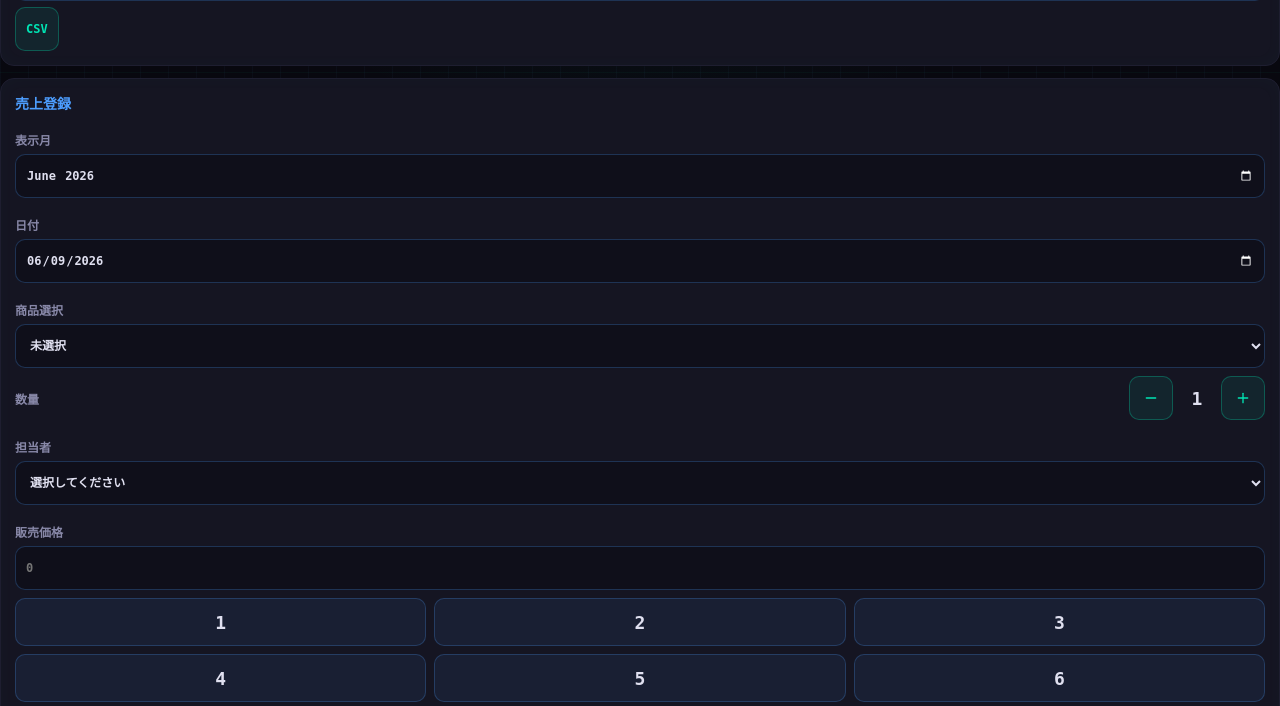
SalesPage › 商品選択が動く
This screenshot has width=1280, height=706.
(page scrolled)
Select "A / 商品A" in the dropdown labelled "商品選択": (640, 346) [15,324,1265,368]
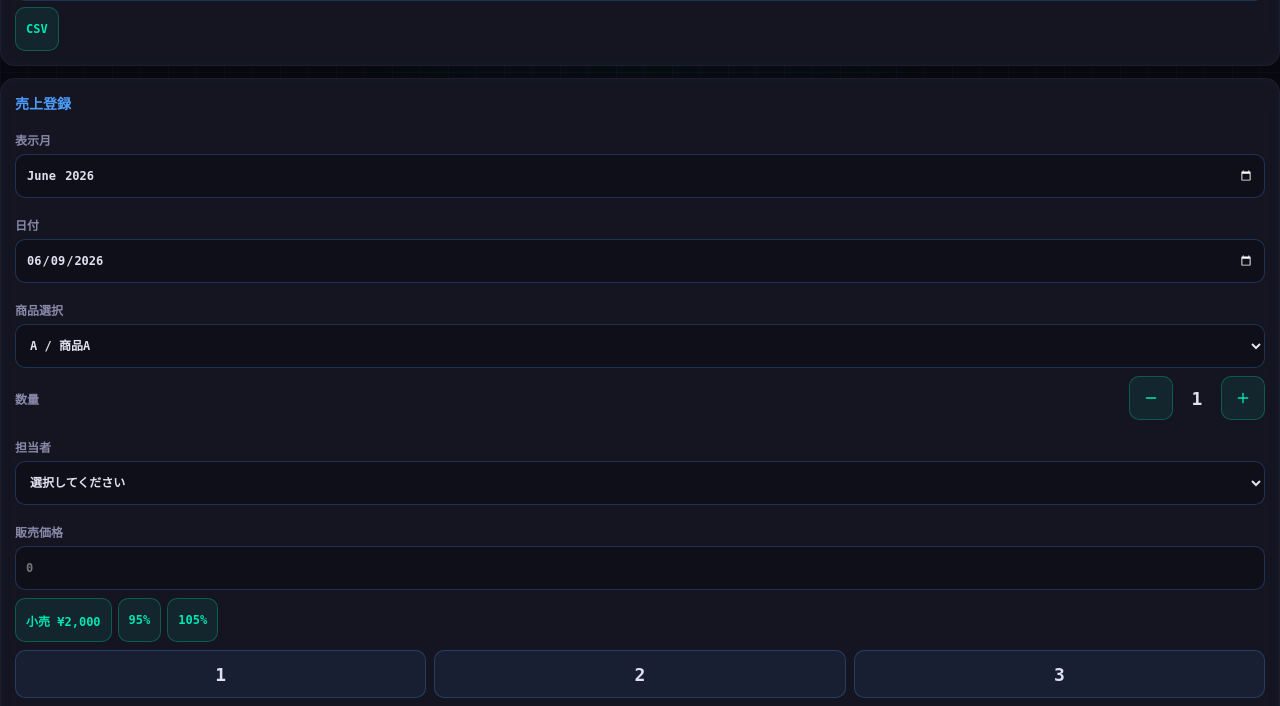
Expected: the button "小売 ¥2,000" is shown, [15,598,112,642]
